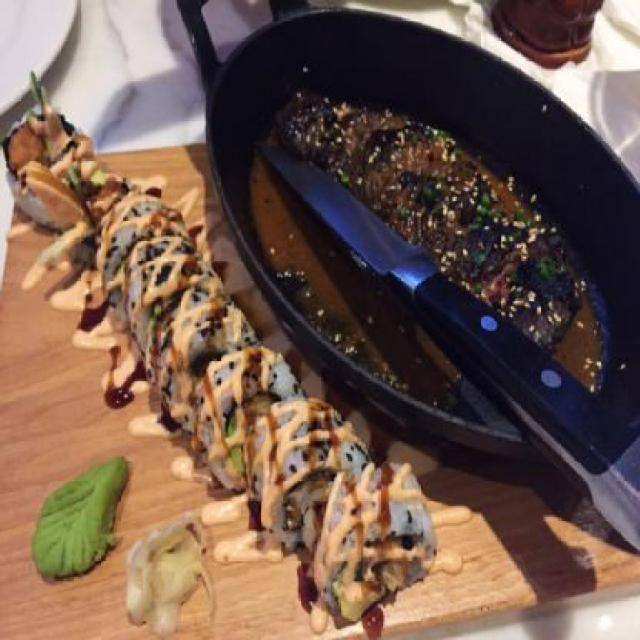steak: (283, 71, 585, 380)
sushi: (7, 106, 256, 640)
